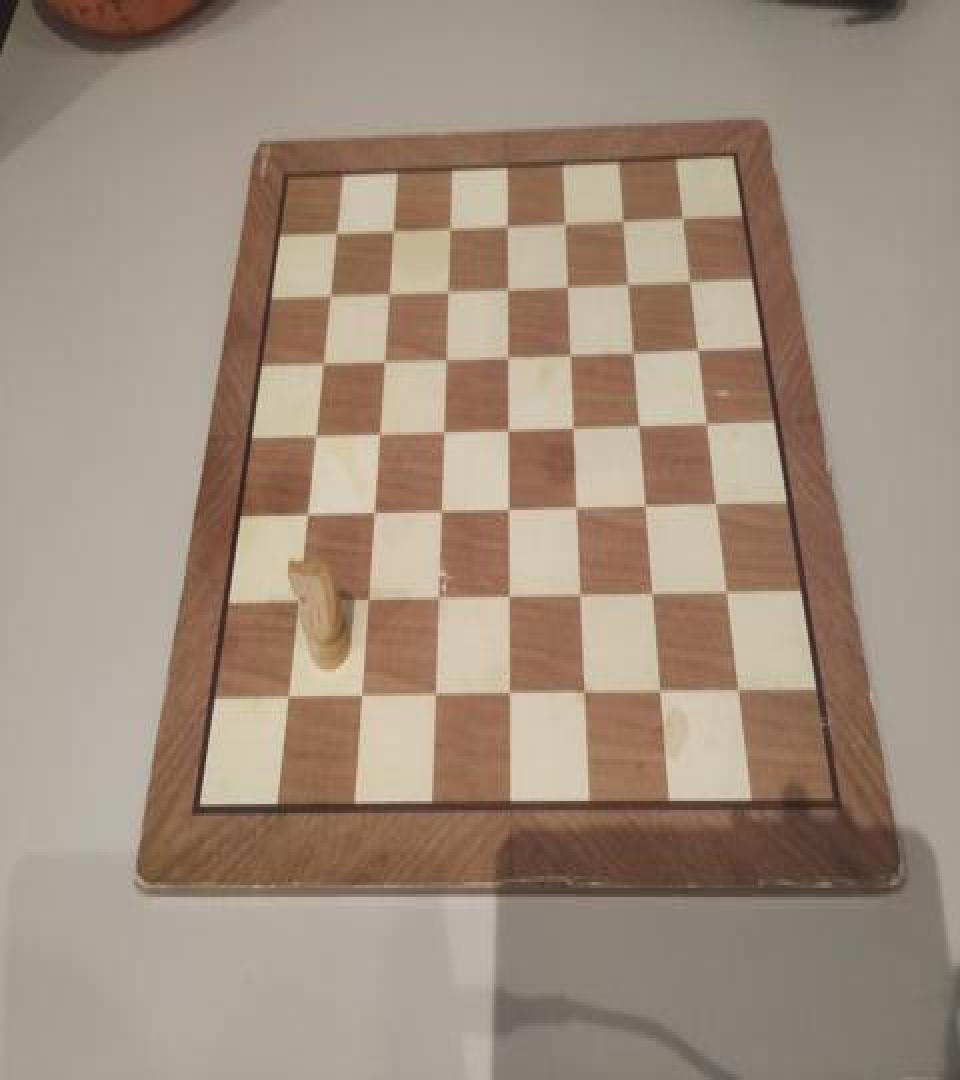xcorner: (612, 199, 632, 230), (276, 675, 296, 705), (349, 675, 369, 705), (422, 675, 442, 705), (497, 675, 517, 705), (356, 579, 376, 609), (426, 579, 446, 609), (497, 578, 517, 608), (568, 576, 588, 606), (641, 576, 661, 606), (714, 574, 734, 604), (295, 494, 315, 524), (362, 492, 382, 522), (429, 490, 449, 520), (496, 489, 516, 519), (565, 488, 585, 518), (634, 486, 654, 516), (704, 486, 724, 516), (304, 414, 324, 444), (367, 412, 387, 442), (431, 411, 451, 441), (496, 410, 516, 440), (562, 408, 582, 438), (628, 405, 648, 435), (695, 404, 715, 434), (311, 342, 331, 372), (372, 339, 392, 369), (434, 338, 454, 368), (496, 336, 516, 366), (559, 333, 579, 363), (622, 332, 642, 362), (686, 328, 706, 358), (319, 274, 339, 304), (377, 272, 397, 302), (436, 270, 456, 300), (496, 267, 516, 297), (556, 266, 576, 296), (617, 262, 637, 292), (678, 261, 698, 291), (325, 213, 345, 243), (381, 210, 401, 240), (438, 207, 458, 237), (496, 206, 516, 236), (553, 202, 573, 232), (671, 196, 691, 226), (572, 674, 592, 703), (648, 674, 668, 703), (726, 674, 746, 703), (286, 581, 306, 610)
